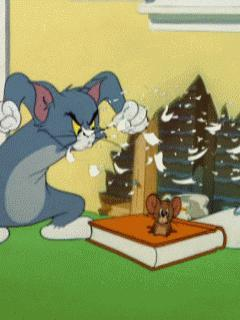jerry: (145, 193, 184, 240)
